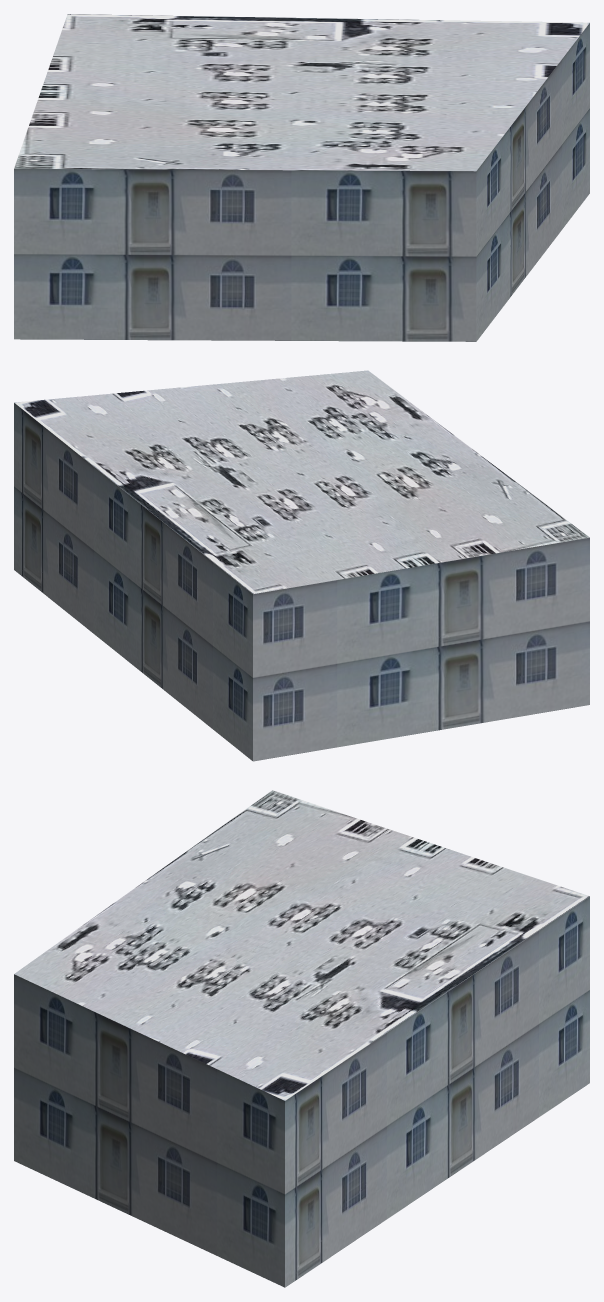
Rendered from ResTex__472.fbx.
3 renders of one model, top to bottom at view 1: azimuth 30°, elevation 25°; view 2: azimuth 150°, elevation 25°; view 3: azimuth 270°, elevation 25°, orthographic. The views are drawn at different scales.
Visible parts, largest first — view 1: CityEngineMaterial_17_m, CityEngineMaterial_4_m; view 2: CityEngineMaterial_17_m, CityEngineMaterial_4_m; view 3: CityEngineMaterial_17_m, CityEngineMaterial_4_m.
Boxes of the visible parts, x1,y1,x2,y2 form: CityEngineMaterial_17_m: [14, 23, 589, 341]; CityEngineMaterial_4_m: [14, 14, 589, 171]; CityEngineMaterial_17_m: [14, 403, 589, 761]; CityEngineMaterial_4_m: [14, 370, 589, 593]; CityEngineMaterial_17_m: [14, 896, 589, 1287]; CityEngineMaterial_4_m: [14, 790, 589, 1100].
Size of the model in its own units: 21.4 by 6 by 16.76.
Materials: 2 (2 with a texture image).
